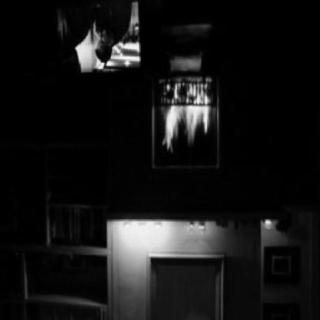Fire: (159, 79, 213, 157)
